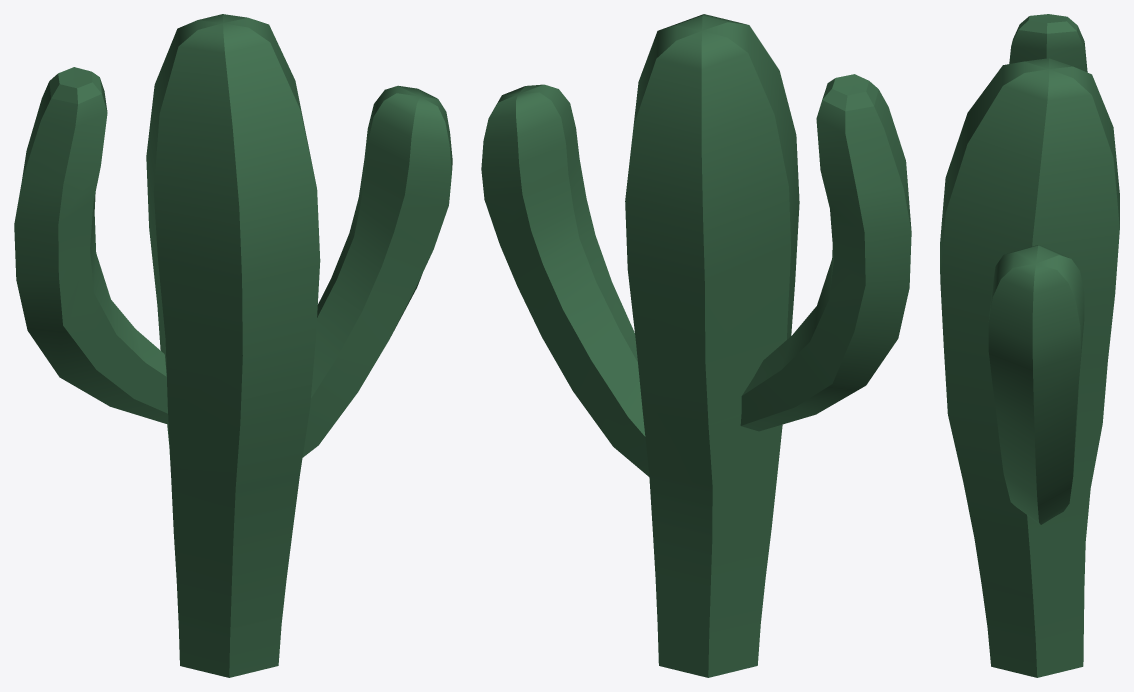
The model's file is a_z1_cactus_02.fbx.
3 renders of one model, left to right at view 1: azimuth 30°, elevation 25°; view 2: azimuth 150°, elevation 25°; view 3: azimuth 270°, elevation 25°, orthographic. The views are drawn at different scales.
Visible parts, largest first — view 1: a_z1_Cactus2; view 2: a_z1_Cactus2; view 3: a_z1_Cactus2.
Part boxes in pixels (<box>): a_z1_Cactus2: <box>14,14,452,677</box>; a_z1_Cactus2: <box>481,14,911,677</box>; a_z1_Cactus2: <box>940,14,1119,677</box>.
Bounding box in the file's own units: 229 × 320 × 88.53.
